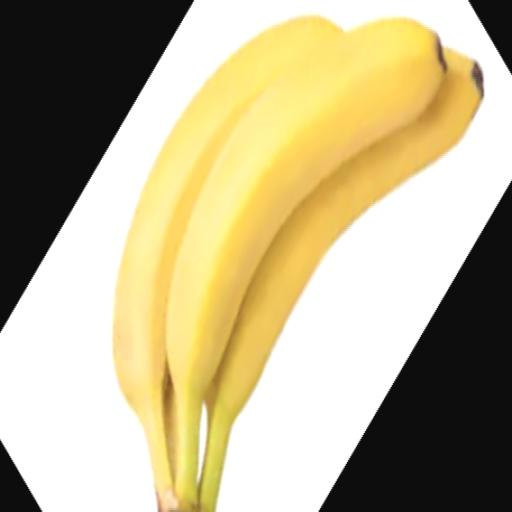banana-ripe: (76, 0, 495, 512)
